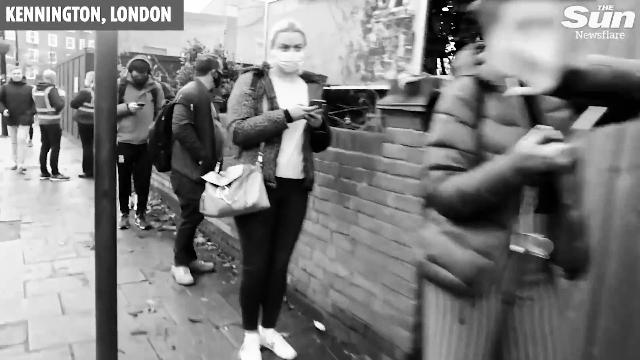berdiri: (222, 22, 350, 360), (167, 40, 219, 305), (111, 50, 159, 230)
